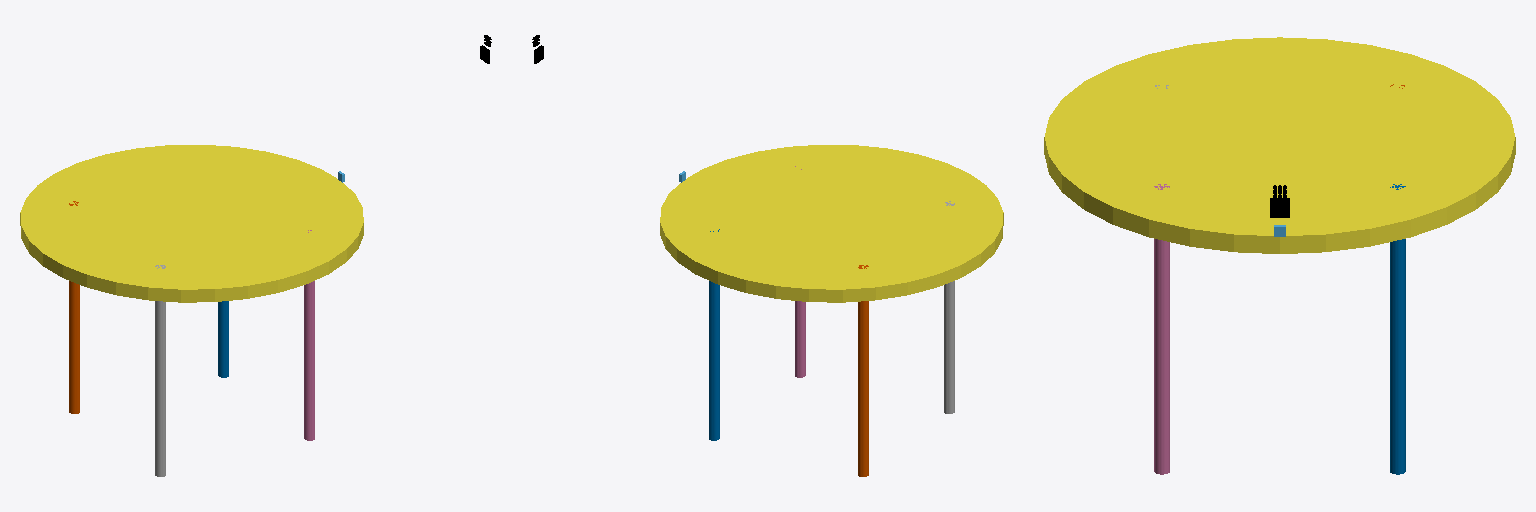
--- What the picture shows (computed from the rendered views, not written in the file) ---
3 views of the same robot in one strip: view 1: azimuth 30°, elevation 25°; view 2: azimuth 150°, elevation 25°; view 3: azimuth 270°, elevation 25° (orthographic).
Model kuka_kr4r600 with 27 links and 26 joints (15 revolute, 11 fixed), rooted at world, posed all joints at 0.
Links seen in each view (by area): view 1: table_top_link, leg4_link, leg3_link, leg2_link, leg1_link; view 2: table_top_link, leg2_link, leg1_link, leg4_link, leg3_link; view 3: table_top_link, leg3_link, leg1_link.
Link boxes in pixels (bbox=[...]): table_top_link: bbox=[20, 145, 363, 302]; leg4_link: bbox=[155, 265, 165, 476]; leg3_link: bbox=[304, 230, 314, 440]; leg2_link: bbox=[69, 201, 79, 413]; leg1_link: bbox=[218, 301, 228, 377]; table_top_link: bbox=[660, 145, 1003, 302]; leg2_link: bbox=[858, 265, 868, 476]; leg1_link: bbox=[709, 229, 719, 440]; leg4_link: bbox=[944, 201, 954, 413]; leg3_link: bbox=[795, 166, 805, 377]; table_top_link: bbox=[1044, 37, 1515, 253]; leg3_link: bbox=[1154, 184, 1169, 474]; leg1_link: bbox=[1390, 184, 1405, 474].
Size in the robot's own frame: 1.79 by 1.2 by 1.22 metres.
0 mesh visuals loaded from 7 distinct referenced files (none loaded); not drawn: 7 (reference not matched to a file when rendering).

The robot description file, URDF, robot "kuka_kr4r600":
<?xml version="1.0" ?>
<!-- =================================================================================== -->
<!-- |    This document was autogenerated by xacro from [local-path]/exparm_ws/src/kuka_lra_noetic/kuka_description/urdf/dim_kuka.xacro | -->
<!-- |    EDITING THIS FILE BY HAND IS NOT RECOMMENDED                                 | -->
<!-- =================================================================================== -->
<robot name="kuka_kr4r600" xmlns:body="http://playerstage.sourceforge.net/gazebo/xmlschema/#body" xmlns:controller="http://playerstage.sourceforge.net/gazebo/xmlschema/#controller" xmlns:gazebo="http://playerstage.sourceforge.net/gazebo/xmlschema/#gz" xmlns:geom="http://playerstage.sourceforge.net/gazebo/xmlschema/#geom" xmlns:interface="http://playerstage.sourceforge.net/gazebo/xmlschema/#interface" xmlns:joint="http://playerstage.sourceforge.net/gazebo/xmlschema/#joint" xmlns:model="http://playerstage.sourceforge.net/gazebo/xmlschema/#model" xmlns:physics="http://playerstage.sourceforge.net/gazebo/xmlschema/#physics" xmlns:renderable="http://playerstage.sourceforge.net/gazebo/xmlschema/#renderable" xmlns:rendering="http://playerstage.sourceforge.net/gazebo/xmlschema/#rendering" xmlns:sensor="http://playerstage.sourceforge.net/gazebo/xmlschema/#sensor" xmlns:xi="http://www.w3.org/2001/XInclude">
    <!-- colours based on RAL values given in "FAQ - Colours of robot and robot
       controller", version "KUKA.Tifs | 2010-01-21 |YM| DefaultColorsRobotAndController.doc",
       downloaded 2015-07-18 from
       http://www.kuka.be/main/cservice/faqs/hardware/DefaultColorsRobotAndController.pdf

       all RAL colours converted using http://www.visual-graphics.de/en/customer-care/ral-colours
  -->
    <!-- Size of square 'camera' box -->
    <!-- <xacro:include filename="$(find kuka_description)/urdf/kuka.transmission.xacro" /> -->
    <!-- <xacro:include filename="$(find kuka_description)/urdf/kuka.gazebo.xacro" /> -->
    <!-- <xacro:macro name="kuka_kr4r600" params="prefix"> -->
    <!-- dimitris to ebale na fortonei trapezi arxi -->
    <link name="world" />
    <joint name="camera1_joint" type="fixed">
        <parent link="table_top_link" />
        <child link="camera1_link" />
        <origin rpy="0 0 0" xyz="0.6 0 0.815" />
    </joint>
    <link name="camera1_link">
        <visual>
            <geometry>
                <box size="0.010 0.03 0.03" />
            </geometry>
            <material name="red" />
        </visual>
    </link>
    <joint name="camera1_optical_joint" type="fixed">
        <parent link="camera1_link" />
        <child link="camera1_link_optical" />
        <origin rpy="-1.5707963267948966 0 -1.5707963267948966" xyz="0 0 0" />
    </joint>
    <link name="camera1_link_optical" />
    <gazebo reference="camera1_link">
        <material>Gazebo/Green</material>
        <sensor name="camera1" type="camera">
            <pose>0 0 0 0 0 0</pose>
            <visualize>true</visualize>
            <update_rate>10.0</update_rate>
            <camera>
                <horizontal_fov>1.3962634</horizontal_fov>
                <image>
                    <width>640</width>
                    <height>480</height>
                    <format>R8G8B8</format>
                </image>
                <clip>
                    <near>0.05</near>
                    <far>8.0</far>
                </clip>
            </camera>
            <plugin filename="libgazebo_ros_camera.so" name="camera_controller">
                <frameName>camera_link</frameName>
            </plugin>
        </sensor>
        <plugin name="gazebo_ros_control">
            <robotNamespace>/</robotNamespace>
        </plugin>
    </gazebo>
    <!-- tabletop height is .55+.01+.025=.585 -->
    <link name="table_top_link">
        <inertial>
            <mass value="1.0" />
            <origin xyz="0.0 0.0 0.775" rpy="0 0 0" />
            <inertia ixx="1" ixy="0" ixz="0" iyy="1" iyz="0" izz="1" />
        </inertial>
        <visual>
            <origin xyz="0.0 0.0 0.775" />
            <geometry>
                <!-- <box size="${table_width} ${table_depth} ${table_top_thickness}" /> -->
                <cylinder length="0.05" radius="0.6" />
            </geometry>
        </visual>
        <collision>
            <origin xyz="0.0 0.0 0.775" />
            <geometry>
                <cylinder length="0.05" radius="0.6" />
                <!-- <box size="${table_width} ${table_depth} ${table_top_thickness}" /> -->
            </geometry>
        </collision>
    </link>
    <gazebo reference="table_top_link">
        <material>Gazebo/LightWood</material>
        <mu1>50.0</mu1>
        <mu2>50.0</mu2>
        <kp>1000000.0</kp>
        <kd>1.0</kd>
    </gazebo>
    <joint name="leg1_joint" type="fixed">
        <parent link="table_top_link" />
        <origin rpy="0 0 0" xyz="0.3 0.3 0.8" />
        <child link="leg1_link" />
    </joint>
    <link name="leg1_link">
        <inertial>
            <mass value="1.0" />
            <origin xyz="0 0 -0.4" rpy="0 0 0" />
            <inertia ixx="0.1" ixy="0" ixz="0" iyy="0.1" iyz="0" izz="0.01" />
        </inertial>
        <visual>
            <origin rpy="0 0 0" xyz="0.0 0.0 -0.4" />
            <geometry>
                <cylinder length="0.8" radius="0.02" />
            </geometry>
        </visual>
        <collision>
            <origin rpy="0.0 0.0 0.0" xyz="0.0 0.0 -0.4" />
            <geometry>
                <cylinder length="0.8" radius="0.02" />
            </geometry>
        </collision>
    </link>
    <gazebo reference="leg1_link">
        <material>Gazebo/White</material>
        <mu1>1000.0</mu1>
        <mu2>1000.0</mu2>
        <kp>10000000.0</kp>
        <kd>1.0</kd>
        <selfCollide>true</selfCollide>
    </gazebo>
    <joint name="leg2_joint" type="fixed">
        <parent link="table_top_link" />
        <origin rpy="0 0 0" xyz="-0.3 0.3 0.8" />
        <child link="leg2_link" />
    </joint>
    <link name="leg2_link">
        <inertial>
            <mass value="1.0" />
            <origin xyz="0 0 -0.4" rpy="0 0 0" />
            <inertia ixx="0.1" ixy="0" ixz="0" iyy="0.1" iyz="0" izz="0.01" />
        </inertial>
        <visual>
            <origin rpy="0 0 0" xyz="0.0 0.0 -0.4" />
            <geometry>
                <cylinder length="0.8" radius="0.02" />
            </geometry>
        </visual>
        <collision>
            <origin rpy="0.0 0.0 0.0" xyz="0.0 0.0 -0.4" />
            <geometry>
                <cylinder length="0.8" radius="0.02" />
            </geometry>
        </collision>
    </link>
    <gazebo reference="leg2_link">
        <material>Gazebo/White</material>
        <mu1>1000.0</mu1>
        <mu2>1000.0</mu2>
        <kp>10000000.0</kp>
        <kd>1.0</kd>
        <selfCollide>true</selfCollide>
    </gazebo>
    <joint name="leg3_joint" type="fixed">
        <parent link="table_top_link" />
        <origin rpy="0 0 0" xyz="0.3 -0.3 0.8" />
        <child link="leg3_link" />
    </joint>
    <link name="leg3_link">
        <inertial>
            <mass value="1.0" />
            <origin xyz="0 0 -0.4" rpy="0 0 0" />
            <inertia ixx="0.1" ixy="0" ixz="0" iyy="0.1" iyz="0" izz="0.01" />
        </inertial>
        <visual>
            <origin rpy="0 0 0" xyz="0.0 0.0 -0.4" />
            <geometry>
                <cylinder length="0.8" radius="0.02" />
            </geometry>
        </visual>
        <collision>
            <origin rpy="0.0 0.0 0.0" xyz="0.0 0.0 -0.4" />
            <geometry>
                <cylinder length="0.8" radius="0.02" />
            </geometry>
        </collision>
    </link>
    <gazebo reference="leg3_link">
        <material>Gazebo/White</material>
        <mu1>1000.0</mu1>
        <mu2>1000.0</mu2>
        <kp>10000000.0</kp>
        <kd>1.0</kd>
        <selfCollide>true</selfCollide>
    </gazebo>
    <joint name="leg4_joint" type="fixed">
        <parent link="table_top_link" />
        <origin rpy="0 0 0" xyz="-0.3 -0.3 0.8" />
        <child link="leg4_link" />
    </joint>
    <link name="leg4_link">
        <inertial>
            <mass value="1.0" />
            <origin xyz="0 0 -0.4" rpy="0 0 0" />
            <inertia ixx="0.1" ixy="0" ixz="0" iyy="0.1" iyz="0" izz="0.01" />
        </inertial>
        <visual>
            <origin rpy="0 0 0" xyz="0.0 0.0 -0.4" />
            <geometry>
                <cylinder length="0.8" radius="0.02" />
            </geometry>
        </visual>
        <collision>
            <origin rpy="0.0 0.0 0.0" xyz="0.0 0.0 -0.4" />
            <geometry>
                <cylinder length="0.8" radius="0.02" />
            </geometry>
        </collision>
    </link>
    <gazebo reference="leg4_link">
        <material>Gazebo/White</material>
        <mu1>1000.0</mu1>
        <mu2>1000.0</mu2>
        <kp>10000000.0</kp>
        <kd>1.0</kd>
        <selfCollide>true</selfCollide>
    </gazebo>
    <gazebo>
        <canonicalBody>table_top_link</canonicalBody>
    </gazebo>
    <!--
  <xacro:include filename="$(find kuka_description)/urdf/camera1.xacro"/>
  -->
    <!-- attach the table to the world-->
    <joint name="world_joint" type="fixed">
        <parent link="world" />
        <child link="base_link" />
        <origin rpy="0.0 0.0 0.0" xyz="0.0 0.0 0.8" />
    </joint>
    <!-- attach the robot to the table -->
    <joint name="table_joint" type="fixed">
        <parent link="base_link" />
        <child link="table_top_link" />
        <origin rpy="0 0 0" xyz="-0.5 0.0 -0.8" />
    </joint>
    <!-- dimitris to ebale na fortonei trapezi telos  -->
    <link name="base_link">
        <inertial>
            <mass value="100" />
            <inertia ixx="1.0" ixy="0.0" ixz="0.0" iyy="1.0" iyz="0.0" izz="1.0" />
            <origin xyz="0 0 0" rpy="0 0 0" />
        </inertial>
        <visual>
            <origin rpy="0 0 0" xyz="0 0 0" />
            <geometry>
                <mesh filename="package://kuka_kr4_support/meshes/kr4r600/visual/base_link.stl" />
            </geometry>
            <material name="">
                <color rgba="0.5058823529411764 0.47058823529411764 0.38823529411764707 1.0" />
            </material>
        </visual>
        <collision>
            <origin rpy="0 0 0" xyz="0 0 0" />
            <geometry>
                <mesh filename="package://kuka_kr4_support/meshes/kr4r600/collision/base_link.stl" />
            </geometry>
        </collision>
        <inertial>
            <origin rpy="0 0 0" xyz="0 0 0" />
            <mass value="7" />
            <inertia ixx="30160574464.000000" ixy="268355824.000000" ixz="396794944.000000" iyy="49449443328.00000" iyz="74363816.000000" izz="47570612224.000000" />
        </inertial>
    </link>
    <link name="link_1">
        <inertial>
            <mass value="1" />
            <inertia ixx="1.0" ixy="0.0" ixz="0.0" iyy="1.0" iyz="0.0" izz="1.0" />
            <origin xyz="0 0 0" rpy="0 0 0" />
        </inertial>
        <visual>
            <origin rpy="0 0 0" xyz="0 0 0" />
            <geometry>
                <mesh filename="package://kuka_kr4_support/meshes/kr4r600/visual/link_1.stl" />
            </geometry>
            <material name="">
                <color rgba="0.9450980392156862 0.9254901960784314 1.0 1.0" />
            </material>
        </visual>
        <collision>
            <origin rpy="0 0 0" xyz="0 0 0" />
            <geometry>
                <mesh filename="package://kuka_kr4_support/meshes/kr4r600/collision/link_1.stl" />
            </geometry>
        </collision>
        <inertial>
            <origin rpy="0 0 0" xyz="0 0 0" />
            <mass value="5" />
            <inertia ixx="29069639680.000000" ixy="16955148.000000" ixz="-75115704.000000" iyy="18764271616.000000" iyz="180538688.000000" izz="20780234752.000000" />
        </inertial>
    </link>
    <link name="link_2">
        <inertial>
            <mass value="1" />
            <inertia ixx="1.0" ixy="0.0" ixz="0.0" iyy="1.0" iyz="0.0" izz="1.0" />
            <origin xyz="0 0 0" rpy="0 0 0" />
        </inertial>
        <visual>
            <origin rpy="0 0 0" xyz="0 0 0" />
            <geometry>
                <mesh filename="package://kuka_kr4_support/meshes/kr4r600/visual/link_2.stl" />
            </geometry>
            <material name="">
                <color rgba="0.9450980392156862 0.9254901960784314 1.0 1.0" />
            </material>
        </visual>
        <collision>
            <origin rpy="0 0 0" xyz="0 0 0" />
            <geometry>
                <mesh filename="package://kuka_kr4_support/meshes/kr4r600/collision/link_2.stl" />
            </geometry>
        </collision>
        <inertial>
            <origin rpy="0 0 0" xyz="0 0 0" />
            <mass value="6" />
            <inertia ixx="17074209792.000000" ixy="568627456.000000" ixz="-1012415616.000000" iyy="54759739392.000000" iyz="2741744.250000" izz="62598627328.000000" />
        </inertial>
    </link>
    <link name="link_3">
        <inertial>
            <mass value="1" />
            <inertia ixx="1.0" ixy="0.0" ixz="0.0" iyy="1.0" iyz="0.0" izz="1.0" />
            <origin xyz="0 0 0" rpy="0 0 0" />
        </inertial>
        <visual>
            <origin rpy="0 0 0" xyz="0 0 0" />
            <geometry>
                <mesh filename="package://kuka_kr4_support/meshes/kr4r600/visual/link_3.stl" />
            </geometry>
            <material name="">
                <color rgba="0.9450980392156862 0.9254901960784314 1.0 1.0" />
            </material>
        </visual>
        <collision>
            <origin rpy="0 0 0" xyz="0 0 0" />
            <geometry>
                <mesh filename="package://kuka_kr4_support/meshes/kr4r600/collision/link_3.stl" />
            </geometry>
        </collision>
        <inertial>
            <origin rpy="0 0 0" xyz="0 0 0" />
            <mass value="4" />
            <inertia ixx="3538344960.000000" ixy="91869584.000000" ixz="-1087638528.000000" iyy="10409157632.000000" iyz="13806910.000000" izz="10024766464.000000" />
        </inertial>
    </link>
    <link name="link_4">
        <inertial>
            <mass value="1" />
            <inertia ixx="1.0" ixy="0.0" ixz="0.0" iyy="1.0" iyz="0.0" izz="1.0" />
            <origin xyz="0 0 0" rpy="0 0 0" />
        </inertial>
        <visual>
            <origin rpy="0 0 0" xyz="0 0 0" />
            <geometry>
                <mesh filename="package://kuka_kr4_support/meshes/kr4r600/visual/link_4.stl" />
            </geometry>
            <material name="">
                <color rgba="0.9450980392156862 0.9254901960784314 1.0 1.0" />
            </material>
        </visual>
        <collision>
            <origin rpy="0 0 0" xyz="0 0 0" />
            <geometry>
                <mesh filename="package://kuka_kr4_support/meshes/kr4r600/collision/link_4.stl" />
            </geometry>
        </collision>
        <inertial>
            <origin rpy="0 0 0" xyz="0 0 0" />
            <mass value="3" />
            <inertia ixx="2312632576.000000" ixy="-262303920.000000" ixz="26849928.000000" iyy="2560956160.000000" iyz="-46212612.000000" izz="3653170944.000000" />
        </inertial>
    </link>
    <link name="link_5">
        <inertial>
            <mass value="1" />
            <inertia ixx="1.0" ixy="0.0" ixz="0.0" iyy="1.0" iyz="0.0" izz="1.0" />
            <origin xyz="0 0 0" rpy="0 0 0" />
        </inertial>
        <visual>
            <origin rpy="0 0 0" xyz="0 0 0" />
            <geometry>
                <mesh filename="package://kuka_kr4_support/meshes/kr4r600/visual/link_5.stl" />
            </geometry>
            <material name="">
                <color rgba="0.9450980392156862 0.9254901960784314 1.0 1.0" />
            </material>
        </visual>
        <collision>
            <origin rpy="0 0 0" xyz="0 0 0" />
            <geometry>
                <mesh filename="package://kuka_kr4_support/meshes/kr4r600/collision/link_5.stl" />
            </geometry>
        </collision>
        <inertial>
            <origin rpy="0 0 0" xyz="0 0 0" />
            <mass value="1.5" />
            <inertia ixx="474922912.000000" ixy="-5465426.000000" ixz="-131389.812500" iyy=" 642145344.000000" iyz="98441.296875" izz="684424448.000000" />
        </inertial>
    </link>
    <link name="link_6">
        <inertial>
            <mass value="1" />
            <inertia ixx="1.0" ixy="0.0" ixz="0.0" iyy="1.0" iyz="0.0" izz="1.0" />
            <origin xyz="0 0 0" rpy="0 0 0" />
        </inertial>
        <visual>
            <origin rpy="0 0 0" xyz="0 0 0" />
            <geometry>
                <mesh filename="package://kuka_kr4_support/meshes/kr4r600/visual/link_6.stl" />
            </geometry>
            <material name="">
                <color rgba="0.5058823529411764 0.47058823529411764 0.38823529411764707 1.0" />
            </material>
        </visual>
        <collision>
            <origin rpy="0 0 0" xyz="0 0 0" />
            <geometry>
                <mesh filename="package://kuka_kr4_support/meshes/kr4r600/collision/link_6.stl" />
            </geometry>
        </collision>
        <inertial>
            <origin rpy="0 0 0" xyz="0 0 0" />
            <mass value="0.5" />
            <inertia ixx="9503564.000000" ixy="-344.500275" ixz="2999.466064" iyy=" 6104710.000000" iyz="2659.174805" izz="6102781.000000" />
        </inertial>
    </link>
    <!-- This frame corresponds to the $FLANGE coordinate system in KUKA KRC controllers. -->
    <link name="tool0" />
    <!-- Camera -->
    <link name="camera_link">
        <collision>
            <origin rpy="0 0 0" xyz="0 0 0" />
            <geometry>
                <box size="0.05 0.05 0.01" />
            </geometry>
        </collision>
        <visual>
            <origin rpy="0 0 0" xyz="0 0 0" />
            <geometry>
                <box size="0.01 0.05 0.05" />
            </geometry>
            <material name="white" />
        </visual>
        <inertial>
            <mass value="1e-5" />
            <origin rpy="0 0 0" xyz="0 0 0" />
            <inertia ixx="1e-6" ixy="0" ixz="0" iyy="1e-6" iyz="0" izz="1e-6" />
        </inertial>
    </link>
    <joint name="joint_a1" type="revolute">
        <origin rpy="0 0 0" xyz="0 0 0.33" />
        <parent link="base_link" />
        <child link="link_1" />
        <axis xyz="0 0 -1" />
        <limit effort="100" lower="-2.9670597283903604" upper="2.9670597283903604" velocity="9.250245035569947" />
    </joint>
    <joint name="joint_a2" type="revolute">
        <origin rpy="0 0 0" xyz="0 0 0" />
        <parent link="link_1" />
        <child link="link_2" />
        <axis xyz="0 1 0" />
        <limit effort="100" lower="-3.4033920413889427" upper="0.6981317007977318" velocity="9.232791743050003" />
    </joint>
    <joint name="joint_a3" type="revolute">
        <origin rpy="0 0 0" xyz="0.290 0 0" />
        <parent link="link_2" />
        <child link="link_3" />
        <axis xyz="0 1 0" />
        <limit effort="100" lower="-2.007128639793479" upper="2.6179938779914944" velocity="9.389871375729493" />
    </joint>
    <joint name="joint_a4" type="revolute">
        <origin rpy="0 0 0" xyz="0.310 0 0.020" />
        <parent link="link_3" />
        <child link="link_4" />
        <axis xyz="-1 0 0" />
        <limit effort="100" lower="-3.2288591161895095" upper="3.2288591161895095" velocity="10.471975511965978" />
    </joint>
    <joint name="joint_a5" type="revolute">
        <origin rpy="0 0 0" xyz="0 0 0" />
        <parent link="link_4" />
        <child link="link_5" />
        <axis xyz="0 1 0" />
        <limit effort="100" lower="-2.0943951023931953" upper="2.0943951023931953" velocity="10.471975511965978" />
    </joint>
    <joint name="joint_a6" type="revolute">
        <origin rpy="0 0 0" xyz="0.075 0 0" />
        <parent link="link_5" />
        <child link="link_6" />
        <axis xyz="-1 0 0" />
        <limit effort="100" lower="-6.1086523819801535" upper="6.1086523819801535" velocity="13.962634015954636" />
    </joint>
    <joint name="joint_a6-tool0" type="fixed">
        <parent link="link_6" />
        <child link="tool0" />
        <origin rpy="0 1.5707963267948966 0" xyz="0 0 0" />
    </joint>
    <joint name="camera_joint" type="fixed">
        <origin rpy="0 -1.5708 0" xyz="0 0 0.005" />
        <parent link="tool0" />
        <child link="camera_link" />
    </joint>
    <joint name="ee_fixed_joint" type="fixed">
        <parent link="camera_link" />
        <child link="ee_link" />
        <origin rpy="0 0 0" xyz="0 0 0.05" />
    </joint>
    <link name="ee_link">
        <collision>
            <geometry>
                <box size="0.01 0.01 0.01" />
            </geometry>
            <surface>
                <friction>
                    <ode>
                        <mu>10</mu>
                        <mu2>10</mu2>
                    </ode>
                </friction>
            </surface>
            <origin rpy="0 0 0" xyz="-0.01 0 0" />
        </collision>
        <inertial>
            <mass value="0.1" />
            <origin xyz="0 0 0" rpy="0 0 0" />
            <inertia ixx="0.03" iyy="0.03" izz="0.03" ixy="0.0" ixz="0.0" iyz="0.0" />
        </inertial>
    </link>
    <link name="vacuum_gripper">
        <gravity>0</gravity>
        <visual>
            <origin rpy="0 0 0" xyz="0 0 0" />
            <geometry>
                <cylinder length="0.01" radius="0.005" />
            </geometry>
            <material name="white">
                <color rgba="0 0 0 0" />
            </material>
        </visual>
        <inertial>
            <origin rpy="0 0 0" xyz="0.000000 0.000000 0.000000" />
            <mass value="0.0001" />
            <inertia ixx="1e-08" ixy="0" ixz="0" iyy="1e-08" iyz="0" izz="1e-08" />
        </inertial>
    </link>
    <joint name="gripper_joint" type="revolute">
        <axis xyz="1 0 0" />
        <parent link="ee_link" />
        <child link="vacuum_gripper" />
        <origin rpy="0 1.5708 0" xyz="0.01 0.0125 0" />
        <limit effort="50" lower="0" upper="0" velocity="50" />
        <dynamics damping="0.0" friction="10" />
    </joint>
    <gazebo>
        <plugin filename="libgazebo_ros_vacuum_gripper.so" name="gazebo_ros_vacuum_gripper">
            <robotNamespace>/</robotNamespace>
            <bodyName>vacuum_gripper</bodyName>
            <topicName>grasping</topicName>
            <maxForce>50</maxForce>
            <maxDistance>0.05</maxDistance>
            <minDistance>0.01</minDistance>
        </plugin>
    </gazebo>
    <link name="vacuum_gripper1">
        <gravity>0</gravity>
        <visual>
            <origin rpy="0 0 0" xyz="0 0 0" />
            <geometry>
                <cylinder length="0.01" radius="0.005" />
            </geometry>
            <material name="white">
                <color rgba="0 0 0 0" />
            </material>
        </visual>
        <inertial>
            <origin rpy="0 0 0" xyz="0.000000 0.000000 0.000000" />
            <mass value="0.0001" />
            <inertia ixx="1e-08" ixy="0" ixz="0" iyy="1e-08" iyz="0" izz="1e-08" />
        </inertial>
    </link>
    <joint name="gripper_joint1" type="revolute">
        <axis xyz="1 0 0" />
        <parent link="ee_link" />
        <child link="vacuum_gripper1" />
        <origin rpy="0 1.5708 0" xyz="0.01 -0.0125 0" />
        <limit effort="50" lower="0" upper="0" velocity="50" />
        <dynamics damping="0.0" friction="10" />
    </joint>
    <gazebo>
        <plugin filename="libgazebo_ros_vacuum_gripper.so" name="gazebo_ros_vacuum_gripper1">
            <robotNamespace>/</robotNamespace>
            <bodyName>vacuum_gripper1</bodyName>
            <topicName>grasping1</topicName>
            <maxForce>50</maxForce>
            <maxDistance>0.05</maxDistance>
            <minDistance>0.01</minDistance>
        </plugin>
    </gazebo>
    <link name="vacuum_gripper2">
        <gravity>0</gravity>
        <visual>
            <origin rpy="0 0 0" xyz="0 0 0" />
            <geometry>
                <cylinder length="0.01" radius="0.005" />
            </geometry>
            <material name="white">
                <color rgba="0 0 0 0" />
            </material>
        </visual>
        <inertial>
            <origin rpy="0 0 0" xyz="0.000000 0.000000 0.000000" />
            <mass value="0.0001" />
            <inertia ixx="1e-08" ixy="0" ixz="0" iyy="1e-08" iyz="0" izz="1e-08" />
        </inertial>
    </link>
    <joint name="gripper_joint2" type="revolute">
        <axis xyz="1 0 0" />
        <parent link="ee_link" />
        <child link="vacuum_gripper2" />
        <origin rpy="0 1.5708 0" xyz="0.01 0 0.0125" />
        <limit effort="50" lower="0" upper="0" velocity="50" />
        <dynamics damping="0.0" friction="10" />
    </joint>
    <gazebo>
        <plugin filename="libgazebo_ros_vacuum_gripper.so" name="gazebo_ros_vacuum_gripper2">
            <robotNamespace>/</robotNamespace>
            <bodyName>vacuum_gripper2</bodyName>
            <topicName>grasping2</topicName>
            <maxForce>50</maxForce>
            <maxDistance>0.05</maxDistance>
            <minDistance>0.01</minDistance>
        </plugin>
    </gazebo>
    <link name="vacuum_gripper3">
        <gravity>0</gravity>
        <visual>
            <origin rpy="0 0 0" xyz="0 0 0" />
            <geometry>
                <cylinder length="0.01" radius="0.005" />
            </geometry>
            <material name="white">
                <color rgba="0 0 0 0" />
            </material>
        </visual>
        <inertial>
            <origin rpy="0 0 0" xyz="0.000000 0.000000 0.000000" />
            <mass value="0.0001" />
            <inertia ixx="1e-08" ixy="0" ixz="0" iyy="1e-08" iyz="0" izz="1e-08" />
        </inertial>
    </link>
    <joint name="gripper_joint3" type="revolute">
        <axis xyz="1 0 0" />
        <parent link="ee_link" />
        <child link="vacuum_gripper3" />
        <origin rpy="0 1.5708 0" xyz="0.01 0 -0.0125" />
        <limit effort="50" lower="0" upper="0" velocity="50" />
        <dynamics damping="0.0" friction="10" />
    </joint>
    <gazebo>
        <plugin filename="libgazebo_ros_vacuum_gripper.so" name="gazebo_ros_vacuum_gripper3">
            <robotNamespace>/</robotNamespace>
            <bodyName>vacuum_gripper3</bodyName>
            <topicName>grasping2</topicName>
            <maxForce>50</maxForce>
            <maxDistance>0.05</maxDistance>
            <minDistance>0.01</minDistance>
        </plugin>
    </gazebo>
    <link name="vacuum_gripper4">
        <gravity>0</gravity>
        <visual>
            <origin rpy="0 0 0" xyz="0 0 0" />
            <geometry>
                <cylinder length="0.01" radius="0.005" />
            </geometry>
            <material name="white">
                <color rgba="0 0 0 0" />
            </material>
        </visual>
        <inertial>
            <origin rpy="0 0 0" xyz="0.000000 0.000000 0.000000" />
            <mass value="0.0001" />
            <inertia ixx="1e-08" ixy="0" ixz="0" iyy="1e-08" iyz="0" izz="1e-08" />
        </inertial>
    </link>
    <joint name="gripper_joint4" type="revolute">
        <axis xyz="1 0 0" />
        <parent link="ee_link" />
        <child link="vacuum_gripper4" />
        <origin rpy="0 1.5708 0" xyz="0.01 0 0" />
        <limit effort="50" lower="0" upper="0" velocity="50" />
        <dynamics damping="0.0" friction="10" />
    </joint>
    <gazebo>
        <plugin filename="libgazebo_ros_vacuum_gripper.so" name="gazebo_ros_vacuum_gripper4">
            <robotNamespace>/</robotNamespace>
            <bodyName>vacuum_gripper4</bodyName>
            <topicName>grasping4</topicName>
            <maxForce>50</maxForce>
            <maxDistance>0.05</maxDistance>
            <minDistance>0.01</minDistance>
        </plugin>
    </gazebo>
    <link name="vacuum_gripper5">
        <gravity>0</gravity>
        <visual>
            <origin rpy="0 0 0" xyz="0 0 0" />
            <geometry>
                <cylinder length="0.01" radius="0.005" />
            </geometry>
            <material name="white">
                <color rgba="0 0 0 0" />
            </material>
        </visual>
        <inertial>
            <origin rpy="0 0 0" xyz="0.000000 0.000000 0.000000" />
            <mass value="0.0001" />
            <inertia ixx="1e-08" ixy="0" ixz="0" iyy="1e-08" iyz="0" izz="1e-08" />
        </inertial>
    </link>
    <joint name="gripper_joint5" type="revolute">
        <axis xyz="1 0 0" />
        <parent link="ee_link" />
        <child link="vacuum_gripper5" />
        <origin rpy="0 1.5708 0" xyz="0.01 0.0125 0.0125" />
        <limit effort="50" lower="0" upper="0" velocity="50" />
        <dynamics damping="0.0" friction="10" />
    </joint>
    <gazebo>
        <plugin filename="libgazebo_ros_vacuum_gripper.so" name="gazebo_ros_vacuum_gripper">
            <robotNamespace>/</robotNamespace>
            <bodyName>vacuum_gripper5</bodyName>
            <topicName>grasping5</topicName>
            <maxForce>50</maxForce>
            <maxDistance>0.05</maxDistance>
            <minDistance>0.01</minDistance>
        </plugin>
    </gazebo>
    <link name="vacuum_gripper6">
        <gravity>0</gravity>
        <visual>
            <origin rpy="0 0 0" xyz="0 0 0" />
            <geometry>
                <cylinder length="0.01" radius="0.005" />
            </geometry>
            <material name="white">
                <color rgba="0 0 0 0" />
            </material>
        </visual>
        <inertial>
            <origin rpy="0 0 0" xyz="0.000000 0.000000 0.000000" />
            <mass value="0.0001" />
            <inertia ixx="1e-08" ixy="0" ixz="0" iyy="1e-08" iyz="0" izz="1e-08" />
        </inertial>
    </link>
    <joint name="gripper_joint6" type="revolute">
        <axis xyz="1 0 0" />
        <parent link="ee_link" />
        <child link="vacuum_gripper6" />
        <origin rpy="0 1.5708 0" xyz="0.01 -0.0125 0.0125" />
        <limit effort="50" lower="0" upper="0" velocity="50" />
        <dynamics damping="0.0" friction="10" />
    </joint>
    <gazebo>
        <plugin filename="libgazebo_ros_vacuum_gripper.so" name="gazebo_ros_vacuum_gripper1">
            <robotNamespace>/</robotNamespace>
            <bodyName>vacuum_gripper6</bodyName>
            <topicName>grasping6</topicName>
            <maxForce>50</maxForce>
            <maxDistance>0.05</maxDistance>
            <minDistance>0.01</minDistance>
        </plugin>
    </gazebo>
    <link name="vacuum_gripper7">
        <gravity>0</gravity>
        <visual>
            <origin rpy="0 0 0" xyz="0 0 0" />
            <geometry>
                <cylinder length="0.01" radius="0.005" />
            </geometry>
            <material name="white">
                <color rgba="0 0 0 0" />
            </material>
        </visual>
        <inertial>
            <origin rpy="0 0 0" xyz="0.000000 0.000000 0.000000" />
            <mass value="0.0001" />
            <inertia ixx="1e-08" ixy="0" ixz="0" iyy="1e-08" iyz="0" izz="1e-08" />
        </inertial>
    </link>
    <joint name="gripper_joint7" type="revolute">
        <axis xyz="1 0 0" />
        <parent link="ee_link" />
        <child link="vacuum_gripper7" />
        <origin rpy="0 1.5708 0" xyz="0.01 0.0125 -0.0125" />
        <limit effort="50" lower="0" upper="0" velocity="50" />
        <dynamics damping="0.0" friction="10" />
    </joint>
    <gazebo>
        <plugin filename="libgazebo_ros_vacuum_gripper.so" name="gazebo_ros_vacuum_gripper7">
            <robotNamespace>/</robotNamespace>
            <bodyName>vacuum_gripper7</bodyName>
            <topicName>grasping7</topicName>
            <maxForce>50</maxForce>
            <maxDistance>0.05</maxDistance>
            <minDistance>0.01</minDistance>
        </plugin>
    </gazebo>
    <link name="vacuum_gripper8">
        <gravity>0</gravity>
        <visual>
            <origin rpy="0 0 0" xyz="0 0 0" />
            <geometry>
                <cylinder length="0.01" radius="0.005" />
            </geometry>
            <material name="white">
                <color rgba="0 0 0 0" />
            </material>
        </visual>
        <inertial>
            <origin rpy="0 0 0" xyz="0.000000 0.000000 0.000000" />
            <mass value="0.0001" />
            <inertia ixx="1e-08" ixy="0" ixz="0" iyy="1e-08" iyz="0" izz="1e-08" />
        </inertial>
    </link>
    <joint name="gripper_joint8" type="revolute">
        <axis xyz="1 0 0" />
        <parent link="ee_link" />
        <child link="vacuum_gripper8" />
        <origin rpy="0 1.5708 0" xyz="0.01 -0.0125 -0.0125" />
        <limit effort="50" lower="0" upper="0" velocity="50" />
        <dynamics damping="0.0" friction="10" />
    </joint>
    <gazebo>
        <plugin filename="libgazebo_ros_vacuum_gripper.so" name="gazebo_ros_vacuum_gripper8">
            <robotNamespace>/</robotNamespace>
            <bodyName>vacuum_gripper8</bodyName>
            <topicName>grasping8</topicName>
            <maxForce>50</maxForce>
            <maxDistance>0.05</maxDistance>
            <minDistance>0.01</minDistance>
        </plugin>
    </gazebo>
    <transmission name="link_1_trans">
        <type>transmission_interface/SimpleTransmission</type>
        <joint name="joint_a1">
            <hardwareInterface>hardware_interface/PositionJointInterface</hardwareInterface>
        </joint>
        <actuator name="link_1_motor">
            <hardwareInterface>hardware_interface/PositionJointInterface</hardwareInterface>
            <mechanicalReduction>1</mechanicalReduction>
        </actuator>
    </transmission>
    <transmission name="link_2_trans">
        <type>transmission_interface/SimpleTransmission</type>
        <joint name="joint_a2">
            <hardwareInterface>hardware_interface/PositionJointInterface</hardwareInterface>
        </joint>
        <actuator name="link_2_motor">
            <hardwareInterface>hardware_interface/PositionJointInterface</hardwareInterface>
            <mechanicalReduction>1</mechanicalReduction>
        </actuator>
    </transmission>
    <transmission name="link_3_trans">
        <type>transmission_interface/SimpleTransmission</type>
        <joint name="joint_a3">
            <hardwareInterface>hardware_interface/PositionJointInterface</hardwareInterface>
        </joint>
        <actuator name="link_3_motor">
            <hardwareInterface>hardware_interface/PositionJointInterface</hardwareInterface>
            <mechanicalReduction>1</mechanicalReduction>
        </actuator>
    </transmission>
    <transmission name="link_4_trans">
        <type>transmission_interface/SimpleTransmission</type>
        <joint name="joint_a4">
            <hardwareInterface>hardware_interface/PositionJointInterface</hardwareInterface>
        </joint>
        <actuator name="link_4_motor">
            <hardwareInterface>hardware_interface/PositionJointInterface</hardwareInterface>
            <mechanicalReduction>1</mechanicalReduction>
        </actuator>
    </transmission>
    <transmission name="link_5_trans">
        <type>transmission_interface/SimpleTransmission</type>
        <joint name="joint_a5">
            <hardwareInterface>hardware_interface/PositionJointInterface</hardwareInterface>
        </joint>
        <actuator name="link_5_motor">
            <hardwareInterface>hardware_interface/PositionJointInterface</hardwareInterface>
            <mechanicalReduction>1</mechanicalReduction>
        </actuator>
    </transmission>
    <transmission name="link_6_trans">
        <type>transmission_interface/SimpleTransmission</type>
        <joint name="joint_a6">
            <hardwareInterface>hardware_interface/PositionJointInterface</hardwareInterface>
        </joint>
        <actuator name="link_6_motor">
            <hardwareInterface>hardware_interface/PositionJointInterface</hardwareInterface>
            <mechanicalReduction>1</mechanicalReduction>
        </actuator>
    </transmission>
    <gazebo>
        <plugin filename="libgazebo_ros_control.so" name="control">
            <robotNamespace>/</robotNamespace>
        </plugin>
    </gazebo>
    <gazebo reference="link_1">
        <selfCollide>true</selfCollide>
    </gazebo>
    <gazebo reference="link_2">
        <selfCollide>true</selfCollide>
    </gazebo>
    <gazebo reference="link_3">
        <selfCollide>true</selfCollide>
    </gazebo>
    <gazebo reference="link_4">
        <selfCollide>true</selfCollide>
    </gazebo>
    <gazebo reference="link_5">
        <selfCollide>true</selfCollide>
    </gazebo>
    <gazebo reference="link_6">
        <selfCollide>true</selfCollide>
    </gazebo>
    <!--   <xacro:kuka_arm_transmission prefix="${prefix}" hw_interface="${transmission_hw_interface}" />
  <xacro:kuka_arm_gazebo prefix="${prefix}" />

 -->
    <!-- ROS base_link to KUKA $ROBROOT coordinate system transform -->
    <!--     <link name="${prefix}base" />
    <joint name="${prefix}base_link-base" type="fixed">
      <origin xyz="0 0 0" rpy="0 0 0"/>
      <parent link="${prefix}base_link"/>
      <child link="${prefix}base"/>
    </joint> -->
    <transmission name="trans_gripper_joint">
        <type>transmission_interface/SimpleTransmission</type>
        <joint name="gripper_joint">
            <hardwareInterface>hardware_interface/EffortJointInterface</hardwareInterface>
        </joint>
        <actuator name="gripper_joint_motor">
            <hardwareInterface>hardware_interface/EffortJointInterface</hardwareInterface>
            <mechanicalReduction>1</mechanicalReduction>
        </actuator>
    </transmission>
    <transmission name="trans_gripper_joint1">
        <type>transmission_interface/SimpleTransmission</type>
        <joint name="gripper_joint1">
            <hardwareInterface>hardware_interface/EffortJointInterface</hardwareInterface>
        </joint>
        <actuator name="gripper_joint1_motor">
            <hardwareInterface>hardware_interface/EffortJointInterface</hardwareInterface>
            <mechanicalReduction>1</mechanicalReduction>
        </actuator>
    </transmission>
    <transmission name="trans_gripper_joint2">
        <type>transmission_interface/SimpleTransmission</type>
        <joint name="gripper_joint2">
            <hardwareInterface>hardware_interface/EffortJointInterface</hardwareInterface>
        </joint>
        <actuator name="gripper_joint2_motor">
            <hardwareInterface>hardware_interface/EffortJointInterface</hardwareInterface>
            <mechanicalReduction>1</mechanicalReduction>
        </actuator>
    </transmission>
    <transmission name="trans_gripper_joint3">
        <type>transmission_interface/SimpleTransmission</type>
        <joint name="gripper_joint3">
            <hardwareInterface>hardware_interface/EffortJointInterface</hardwareInterface>
        </joint>
        <actuator name="gripper_joint3_motor">
            <hardwareInterface>hardware_interface/EffortJointInterface</hardwareInterface>
            <mechanicalReduction>1</mechanicalReduction>
        </actuator>
    </transmission>
    <transmission name="trans_gripper_joint4">
        <type>transmission_interface/SimpleTransmission</type>
        <joint name="gripper_joint4">
            <hardwareInterface>hardware_interface/EffortJointInterface</hardwareInterface>
        </joint>
        <actuator name="gripper_joint4_motor">
            <hardwareInterface>hardware_interface/EffortJointInterface</hardwareInterface>
            <mechanicalReduction>1</mechanicalReduction>
        </actuator>
    </transmission>
    <transmission name="trans_gripper_joint5">
        <type>transmission_interface/SimpleTransmission</type>
        <joint name="gripper_joint5">
            <hardwareInterface>hardware_interface/EffortJointInterface</hardwareInterface>
        </joint>
        <actuator name="gripper_joint5_motor">
            <hardwareInterface>hardware_interface/EffortJointInterface</hardwareInterface>
            <mechanicalReduction>1</mechanicalReduction>
        </actuator>
    </transmission>
    <transmission name="trans_gripper_joint6">
        <type>transmission_interface/SimpleTransmission</type>
        <joint name="gripper_joint6">
            <hardwareInterface>hardware_interface/EffortJointInterface</hardwareInterface>
        </joint>
        <actuator name="gripper_joint6_motor">
            <hardwareInterface>hardware_interface/EffortJointInterface</hardwareInterface>
            <mechanicalReduction>1</mechanicalReduction>
        </actuator>
    </transmission>
    <transmission name="trans_gripper_joint7">
        <type>transmission_interface/SimpleTransmission</type>
        <joint name="gripper_joint7">
            <hardwareInterface>hardware_interface/EffortJointInterface</hardwareInterface>
        </joint>
        <actuator name="gripper_joint7_motor">
            <hardwareInterface>hardware_interface/EffortJointInterface</hardwareInterface>
            <mechanicalReduction>1</mechanicalReduction>
        </actuator>
    </transmission>
    <transmission name="trans_gripper_joint8">
        <type>transmission_interface/SimpleTransmission</type>
        <joint name="gripper_joint8">
            <hardwareInterface>hardware_interface/EffortJointInterface</hardwareInterface>
        </joint>
        <actuator name="gripper_joint8_motor">
            <hardwareInterface>hardware_interface/EffortJointInterface</hardwareInterface>
            <mechanicalReduction>1</mechanicalReduction>
        </actuator>
    </transmission>
</robot>
